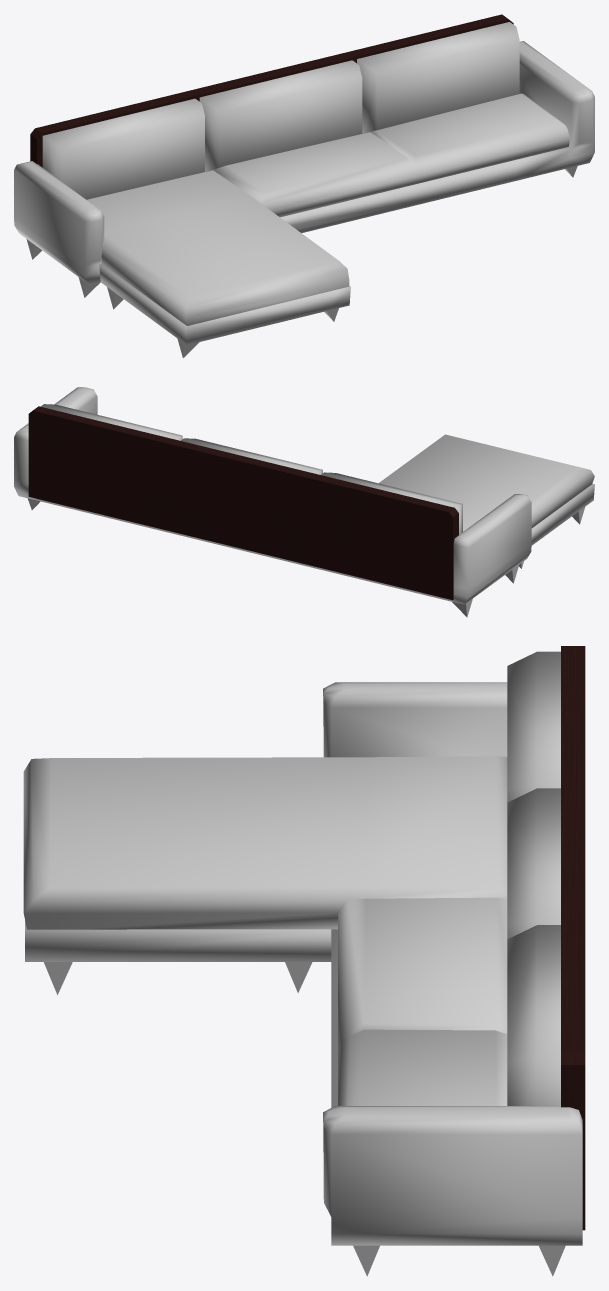
The model's file is Chaise_Sofa_B_14.FBX.
3 renders of one model, top to bottom at view 1: azimuth 30°, elevation 25°; view 2: azimuth 150°, elevation 25°; view 3: azimuth 270°, elevation 25°, orthographic. The views are drawn at different scales.
Parts seen in each view (by area): view 1: Chaise_Sofa_B; view 2: Chaise_Sofa_B; view 3: Chaise_Sofa_B.
Boxes of the visible parts, left/top/right/bottom form: Chaise_Sofa_B: left=14, top=14, right=594, bottom=357; Chaise_Sofa_B: left=14, top=387, right=594, bottom=617; Chaise_Sofa_B: left=23, top=646, right=585, bottom=1276.
Size of the model in its own units: 685 by 157 by 366.
